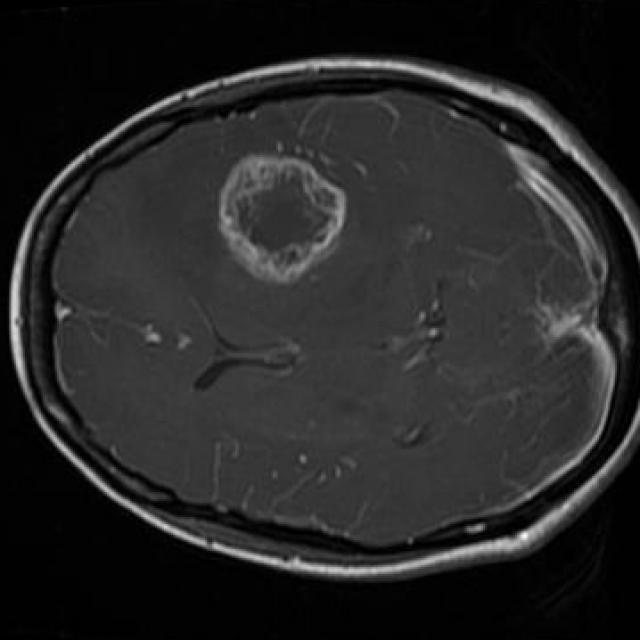glioma: (217, 155, 348, 287)
